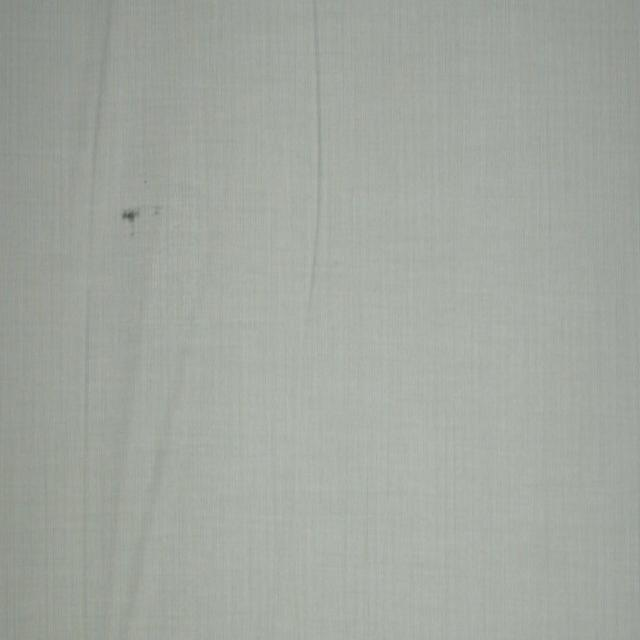dirty: (121, 206, 140, 228)
